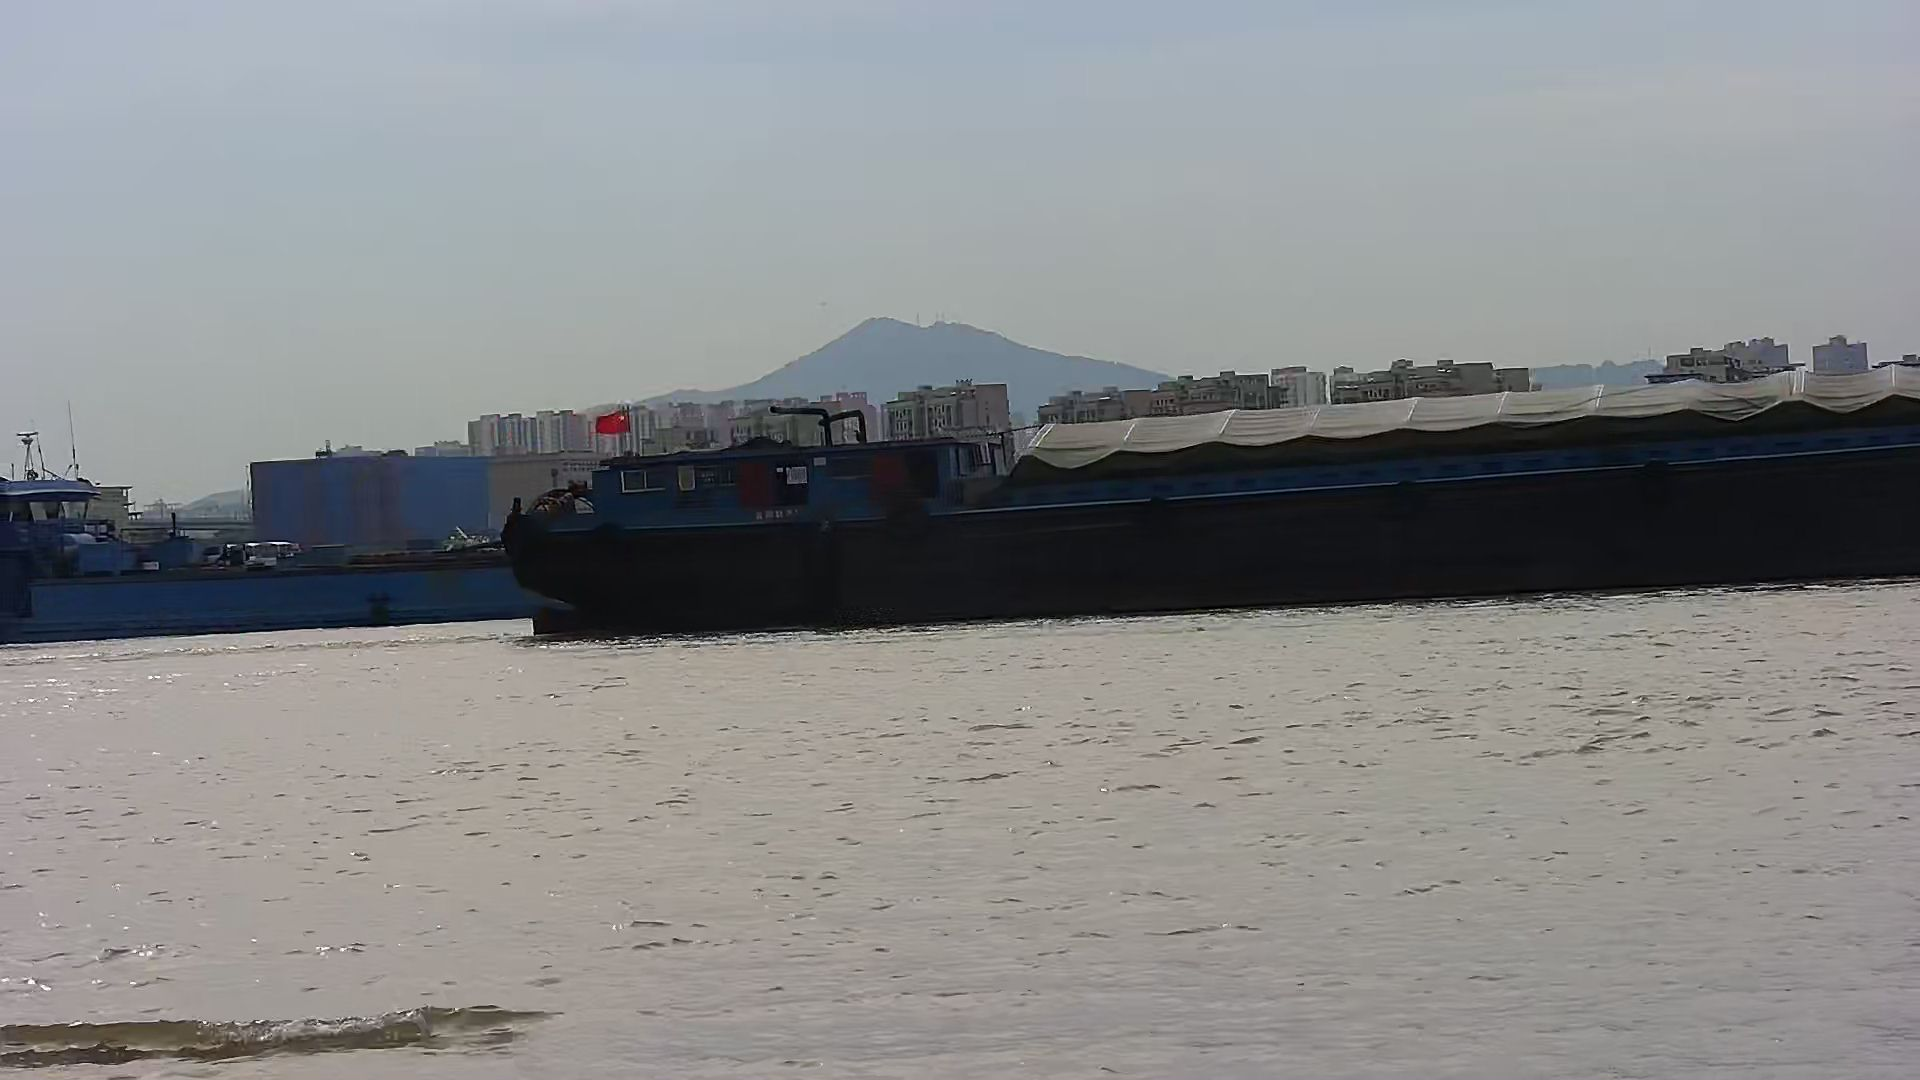ship: (506, 382, 1920, 641), (1, 430, 535, 646)
